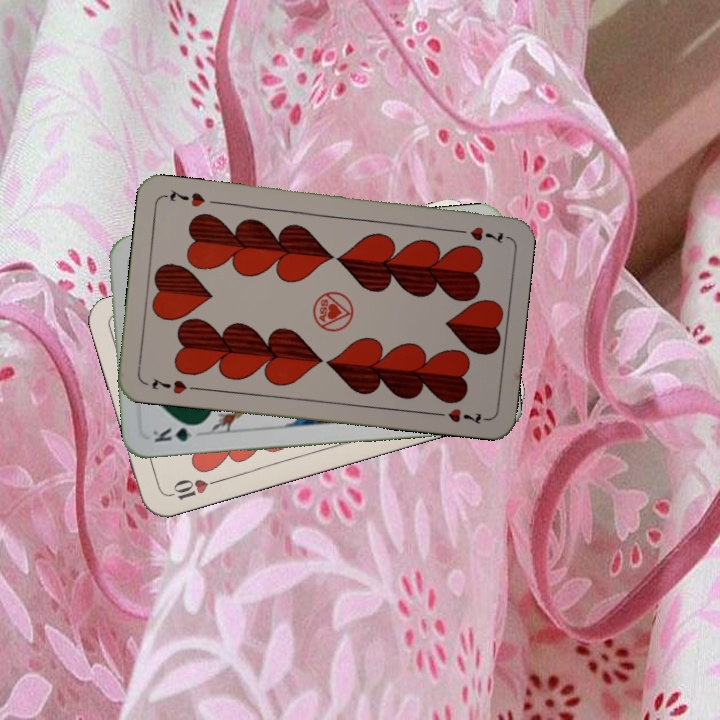GK: (148, 420, 205, 445)
H10: (164, 475, 222, 503)
H7: (450, 222, 509, 245), (148, 374, 201, 397)
